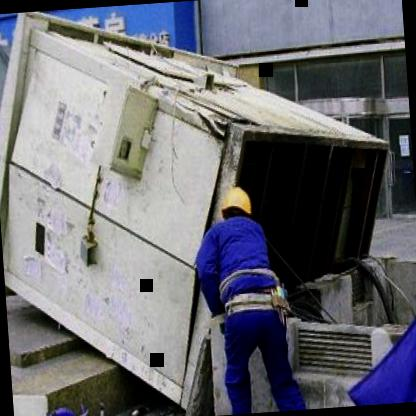helmet: (219, 186, 256, 228)
